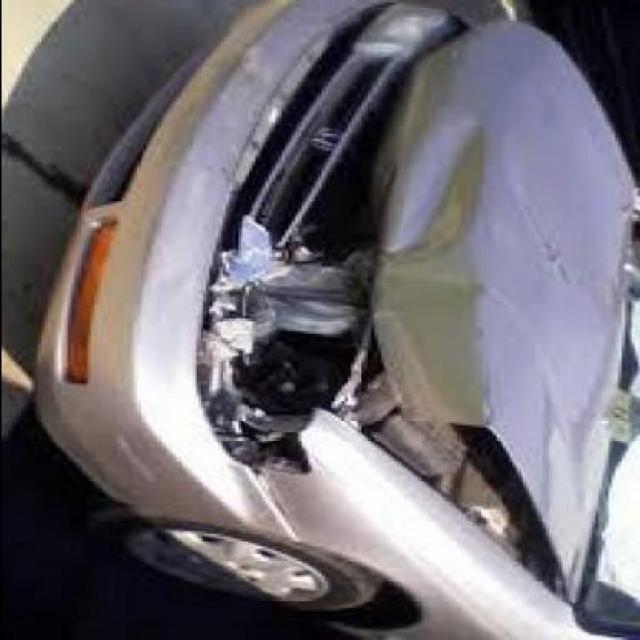damage: (183, 108, 572, 602)
